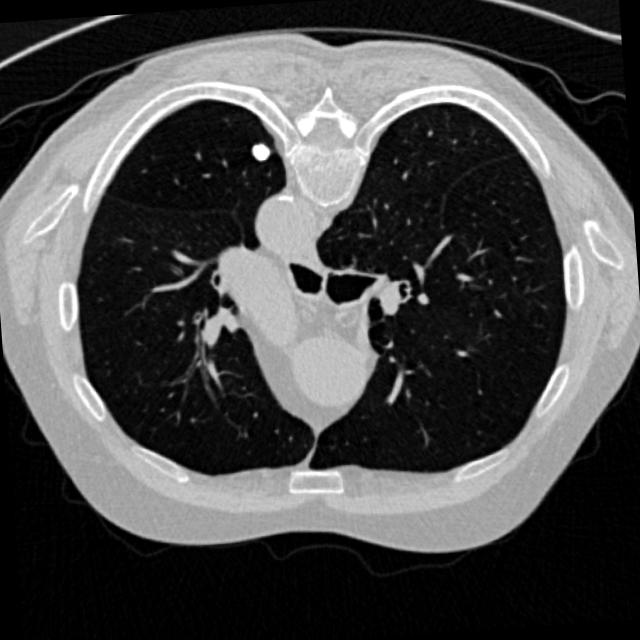nodule: (239, 131, 282, 174)
